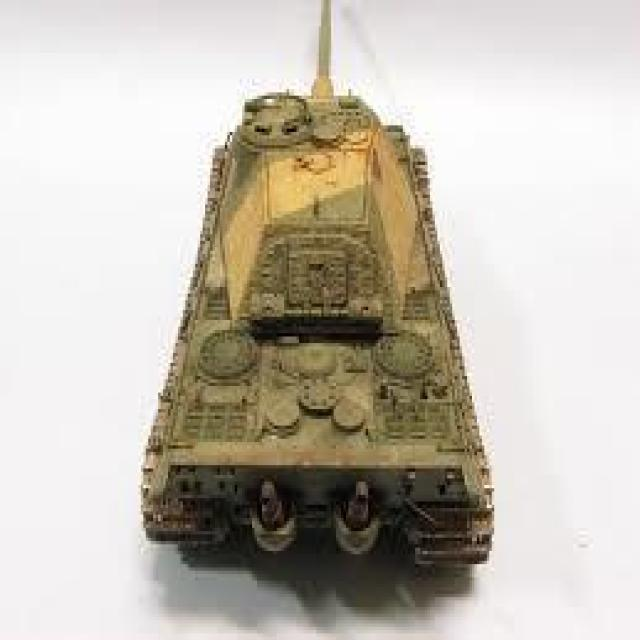Tanks: (146, 82, 502, 570)
